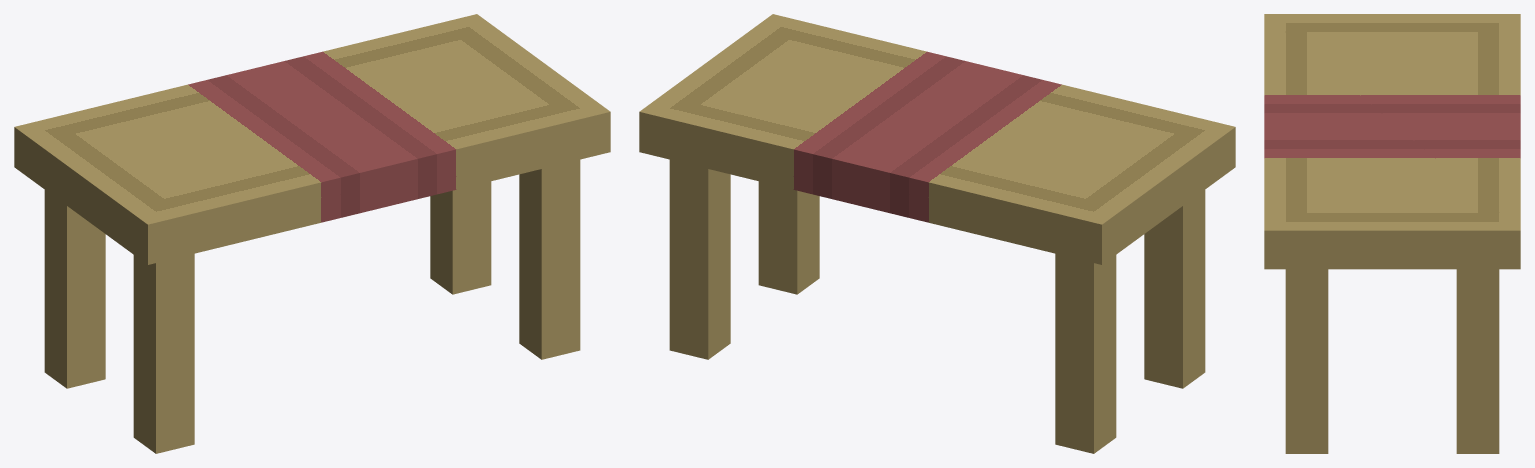
The model's file is AlchemistTable.obj.
The picture shows the model from 3 angles, left to right: view 1: azimuth 30°, elevation 25°; view 2: azimuth 150°, elevation 25°; view 3: azimuth 270°, elevation 25°; orthographic projection. The views are drawn at different scales.
Parts seen in each view (by area): view 1: Table; view 2: Table; view 3: Table.
Part boxes in pixels (x1=…): Table: x1=14, y1=14, x2=610, y2=453; Table: x1=639, y1=14, x2=1235, y2=453; Table: x1=1264, y1=14, x2=1520, y2=453.
Bounding box in the file's own units: 0.75 × 0.375 × 0.375.
Materials: 1 (1 with a texture image).
